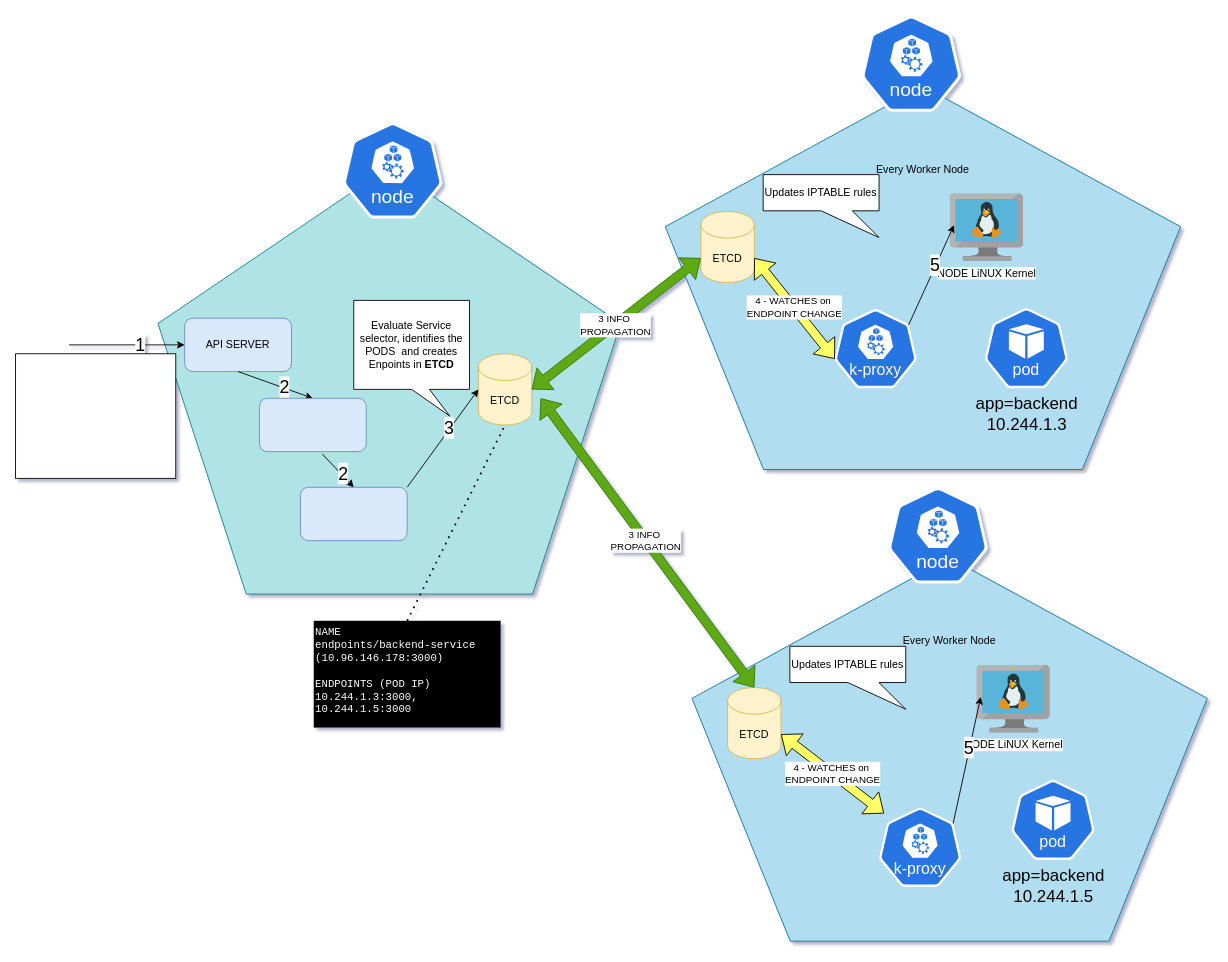
Some shapes in this 1228 by 962 pixel diagram are drawn without their labels. The shapes that lost their labels are listed below. From the top down, each one's box as (x1, y1, x2, y2) in pixels, then its label:
(157, 166, 621, 594): CONTROL PANE - MASTER NODE
(15, 353, 176, 478): kind : Service metadata : name : backend-service spec : selector : app : backend
(259, 397, 366, 452): CONTROLLER MANAGER
(299, 486, 407, 541): Endpoint controller
